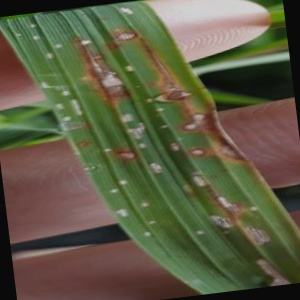Brown_Spot: (147, 56, 190, 110), (84, 53, 125, 105), (100, 137, 143, 184), (231, 217, 282, 251), (208, 133, 252, 170), (206, 188, 258, 219), (55, 129, 105, 161), (171, 107, 220, 139), (249, 252, 292, 286), (199, 207, 238, 241), (183, 166, 213, 190), (184, 141, 207, 168)
